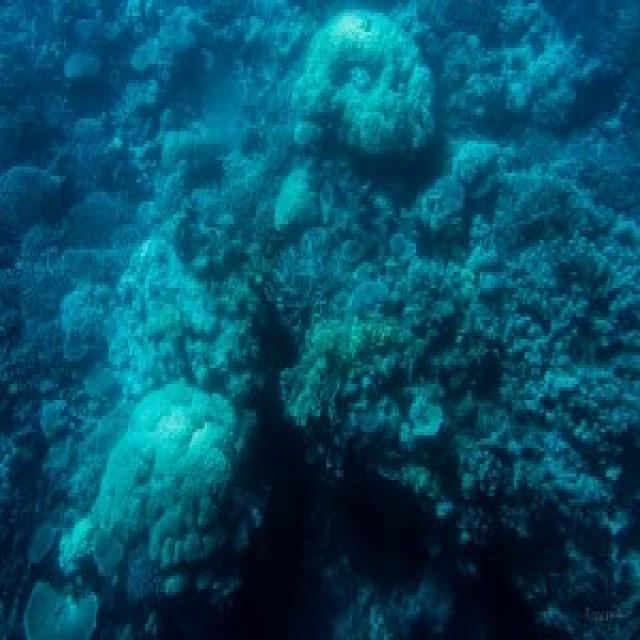Bleached: (61, 382, 234, 599), (295, 14, 434, 155), (108, 238, 216, 398)
